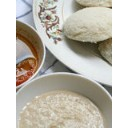idly: (63, 5, 114, 40)
